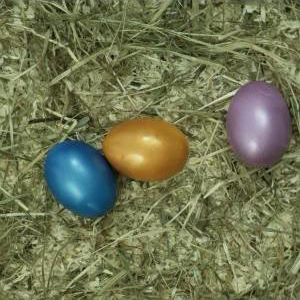egg: (44, 141, 117, 219), (102, 118, 189, 182), (227, 82, 292, 166)
